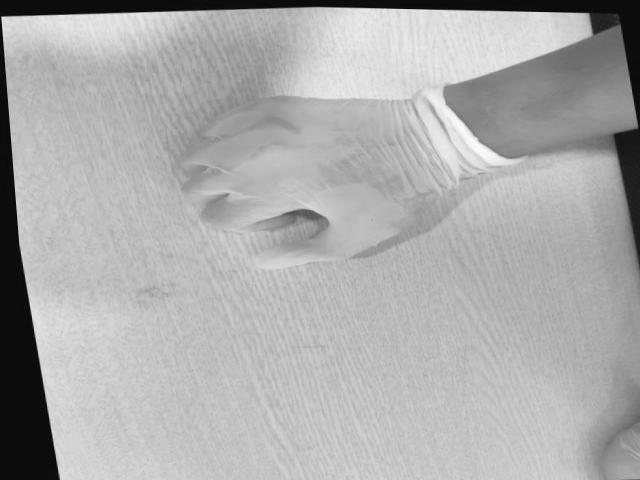gloved: (175, 95, 416, 265)
